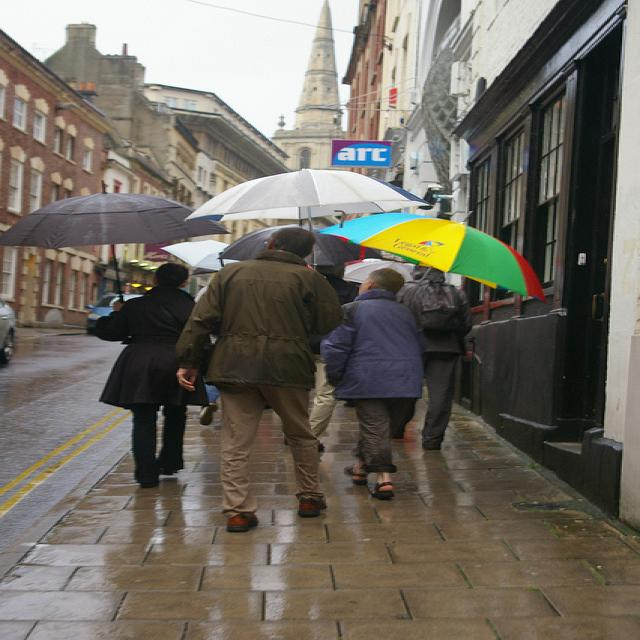Vehicle: (84, 295, 143, 333), (0, 298, 17, 366)
